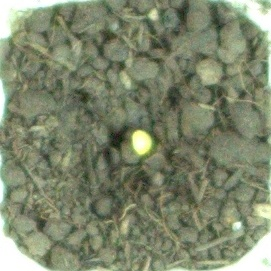pepper seed: (53, 51, 208, 207)
